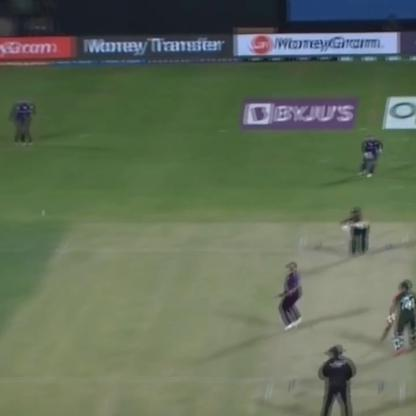ball: (37, 205, 49, 221)
pitch: (282, 220, 415, 416)
